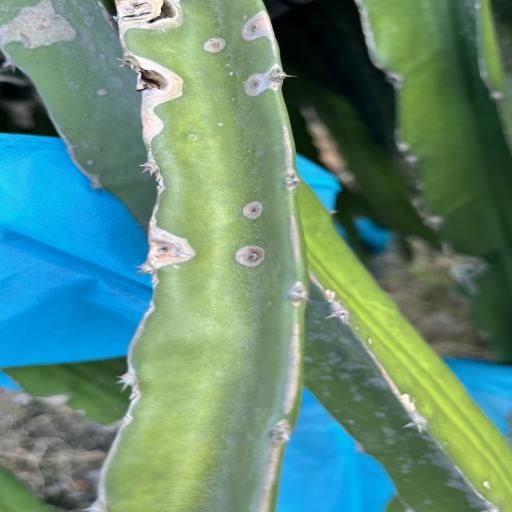stemcanker: (199, 36, 231, 58), (216, 62, 242, 78), (210, 119, 238, 131), (186, 133, 205, 146)
